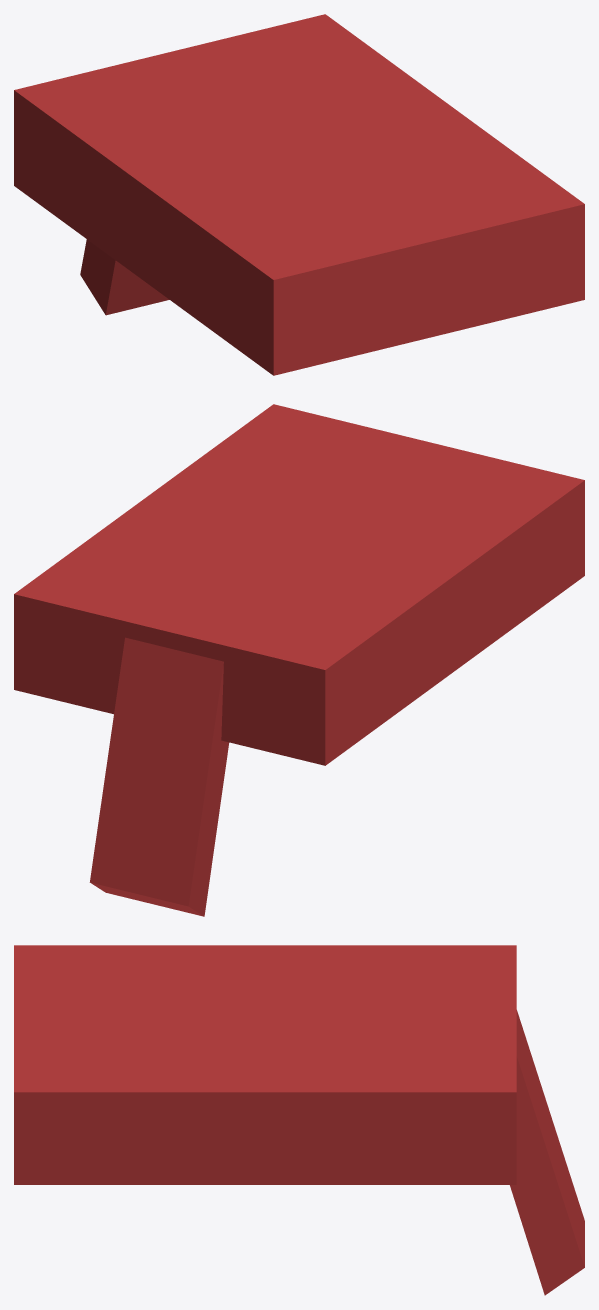
File: red_headband.glb
3 views of the same model, one above another, from view 1: azimuth 30°, elevation 25°; view 2: azimuth 150°, elevation 25°; view 3: azimuth 270°, elevation 25° (orthographic). The views are drawn at different scales.
Visible parts, largest first — view 1: mesh; view 2: mesh; view 3: mesh.
Part boxes in pixels (x1,y1,x2,y2): mesh: (14,14,584,375); mesh: (14,404,584,916); mesh: (14,945,584,1295).
Bounding box in the file's own units: 0.7133 × 0.5734 × 1.17.
Materials: 1 (1 with a texture image).
